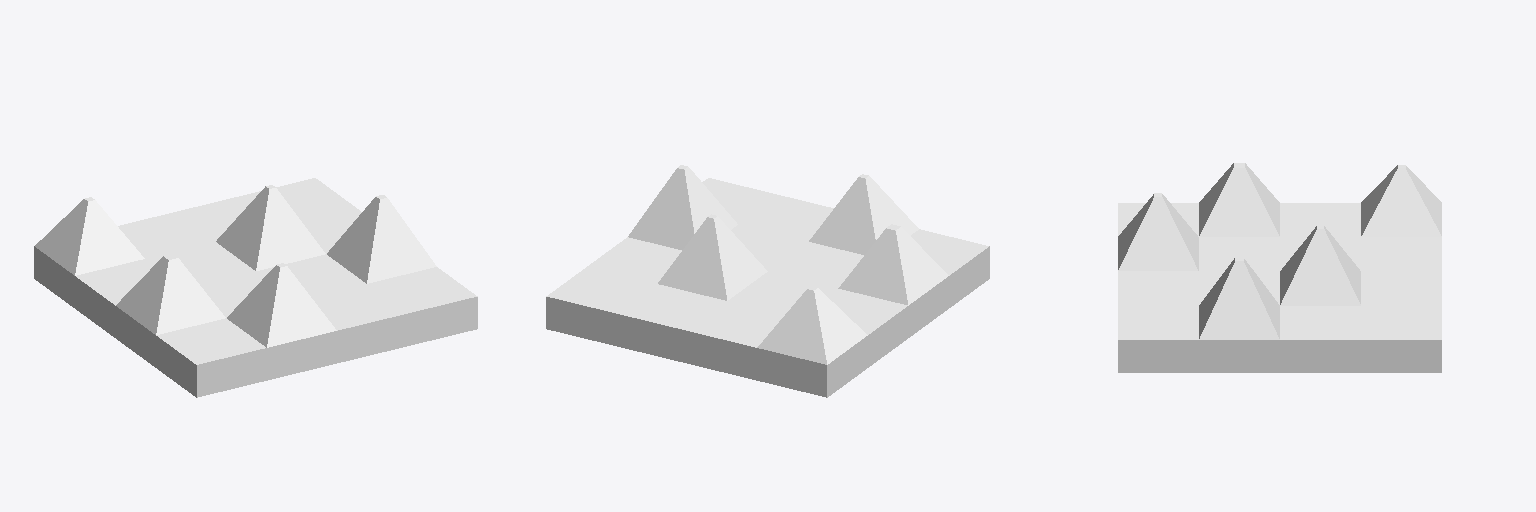
3 renders of one model, left to right at view 1: azimuth 30°, elevation 25°; view 2: azimuth 150°, elevation 25°; view 3: azimuth 270°, elevation 25°, orthographic.
Parts seen in each view (by area): view 1: Cube; view 2: Cube; view 3: Cube.
Boxes of the visible parts, x1,y1,x2,y2 form: Cube: [34, 178, 477, 397]; Cube: [546, 165, 989, 397]; Cube: [1118, 163, 1441, 372].
Bounding box in the file's own units: 1.2 × 0.3915 × 1.2.
1 materials, 1 textured.